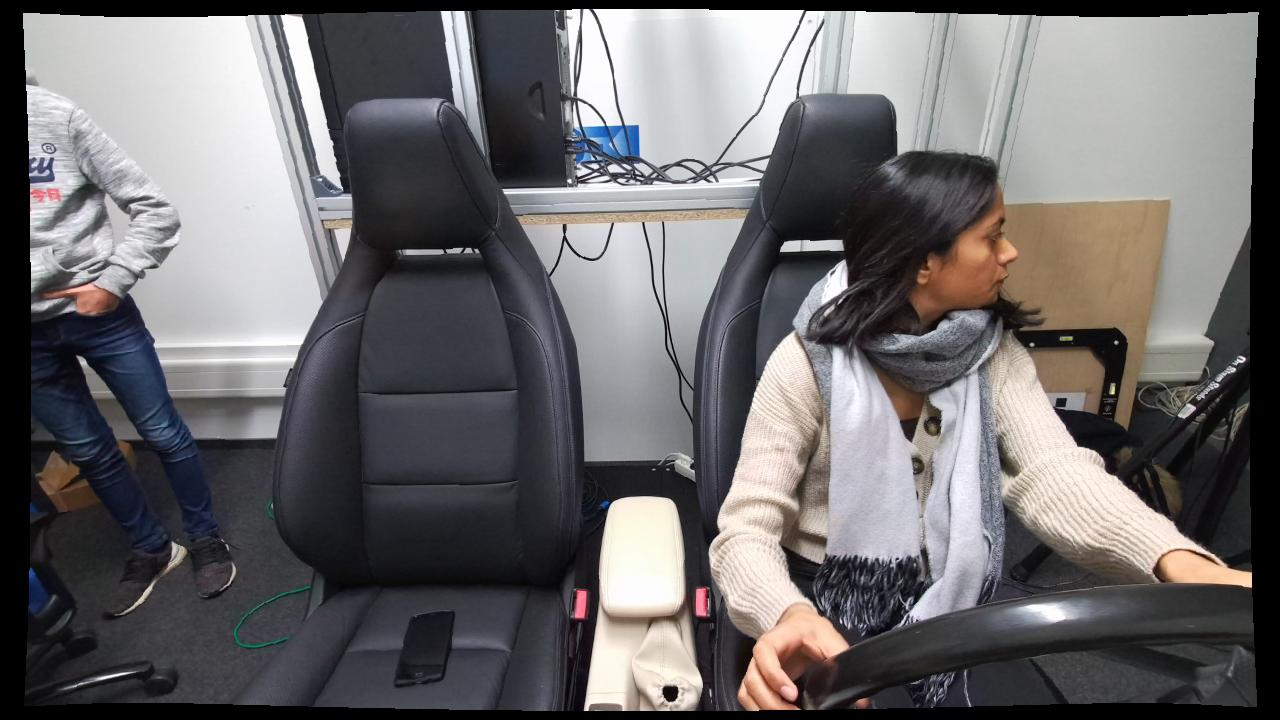Distracted: (706, 148, 1097, 707)
